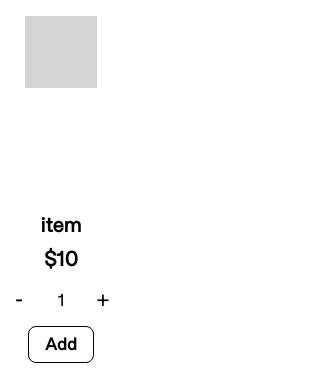
Test: increment btn works as expected › increment btn increases the amount
Expected: the field holds "1", [43,284,79,318]
Click the button "+" at (103, 297), box [87,281,119,313]
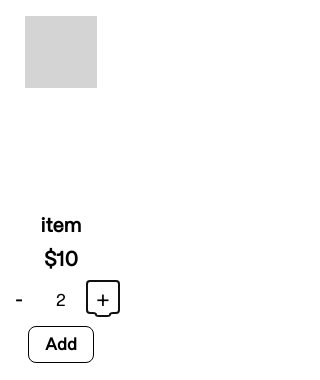
Expected: the field holds "2", [43,284,79,318]
